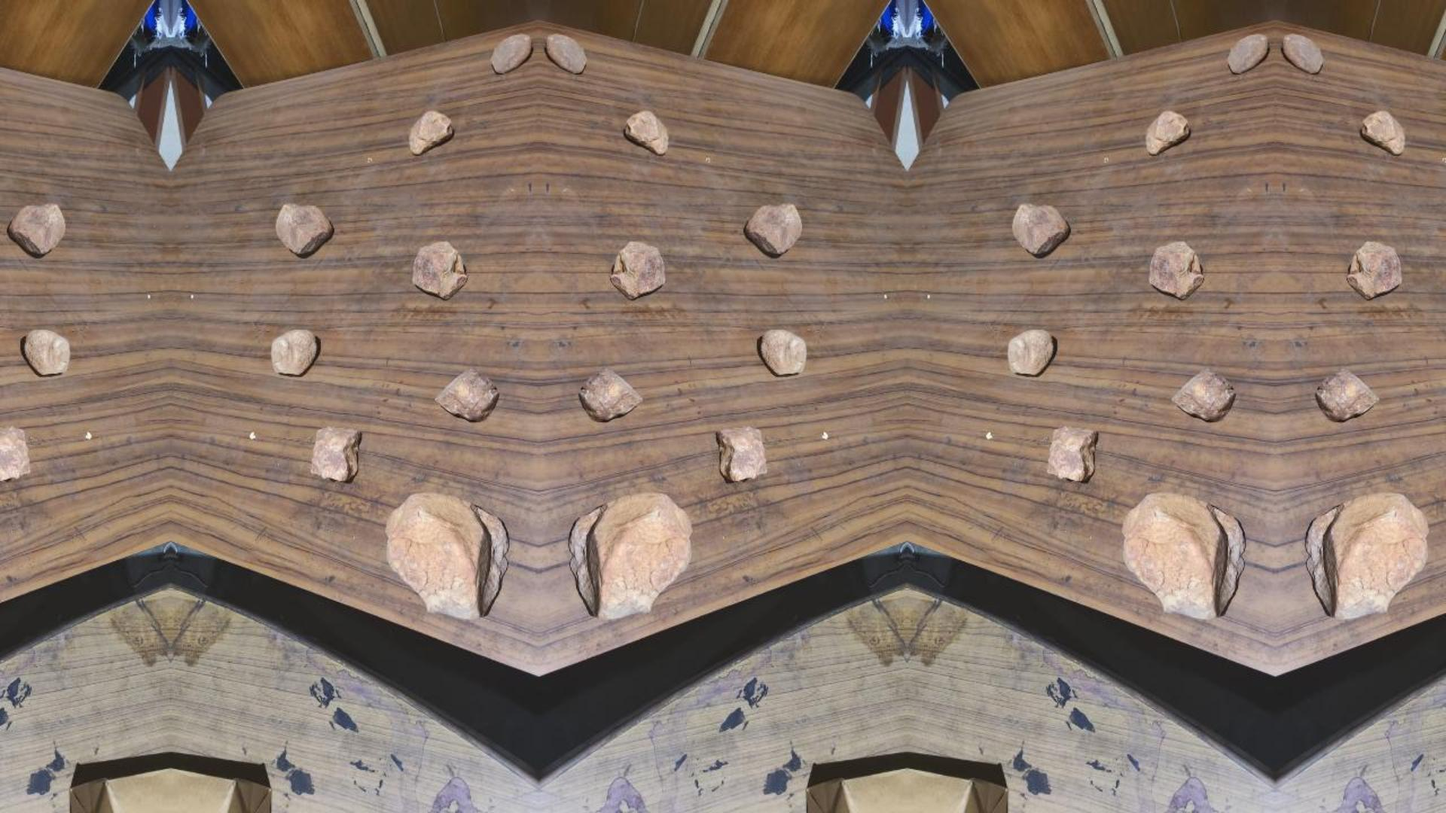rock: (1123, 492, 1245, 619), (386, 493, 508, 619), (568, 493, 690, 618), (1306, 493, 1427, 619), (578, 368, 642, 420), (434, 368, 498, 420), (1171, 369, 1235, 420), (1315, 369, 1378, 420), (1347, 241, 1402, 299), (610, 242, 664, 299), (7, 203, 64, 257), (1149, 242, 1203, 299), (743, 203, 801, 256), (1012, 203, 1070, 256), (276, 203, 333, 256), (412, 242, 465, 298), (716, 426, 766, 482), (1047, 427, 1098, 481), (311, 427, 360, 482), (271, 330, 320, 375), (21, 330, 70, 375), (1008, 330, 1056, 375), (758, 330, 805, 375), (409, 110, 454, 155), (624, 110, 668, 155), (1360, 110, 1404, 155), (1146, 111, 1190, 155), (1227, 34, 1269, 73), (490, 34, 531, 73), (1282, 34, 1323, 73), (0, 427, 29, 481), (546, 34, 585, 73)
